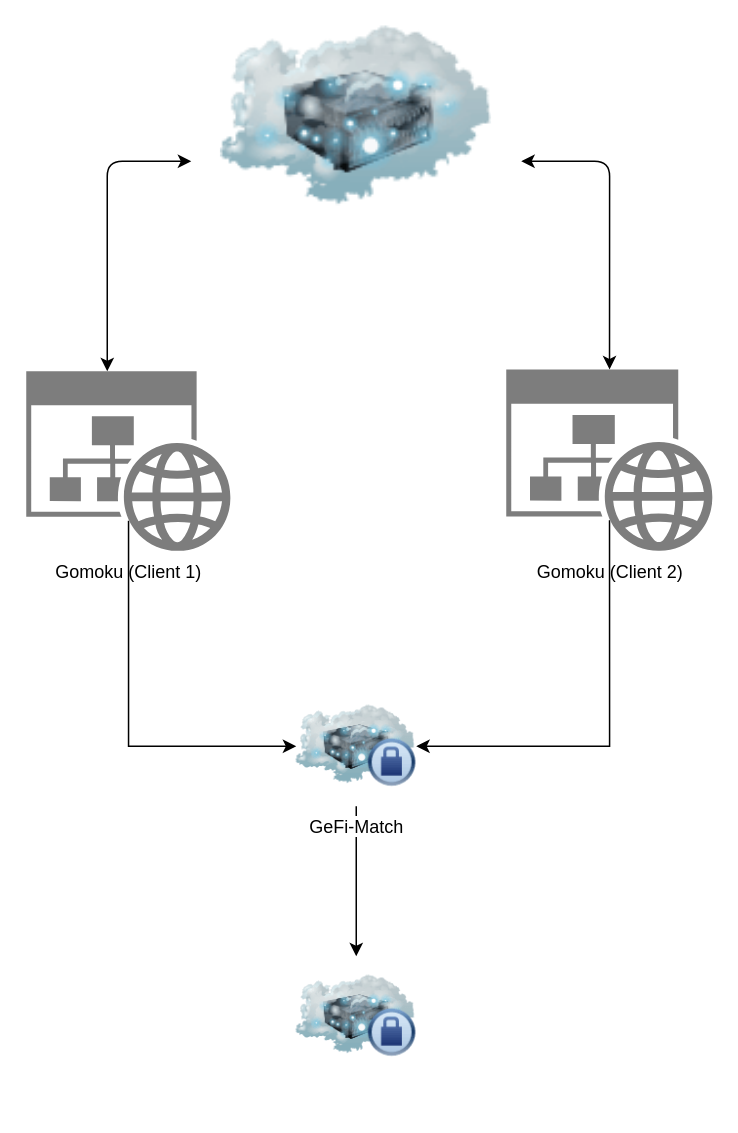
This 738x1133 diagram has some shape labels left out. Here are the shapes that lost their labels. From the top down, the centre of each, then its label:
[355,116]: Gomoku server
[356,1016]: GeFi-Hub
